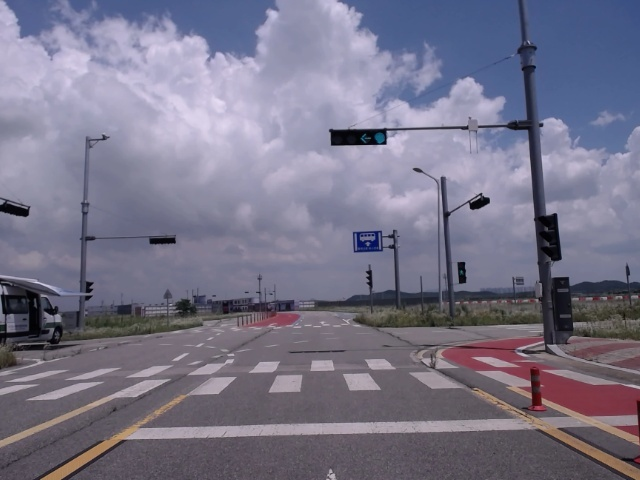all_green_4: (333, 131, 383, 145)
